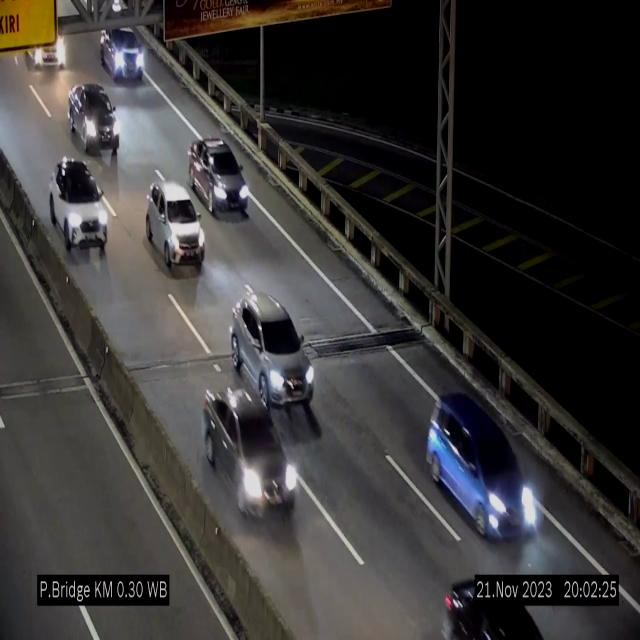Car: (426, 390, 544, 537), (198, 386, 300, 526), (230, 294, 314, 417), (436, 557, 552, 640), (50, 158, 107, 254), (146, 182, 205, 272), (188, 138, 250, 218), (66, 82, 122, 157), (99, 27, 148, 86)
